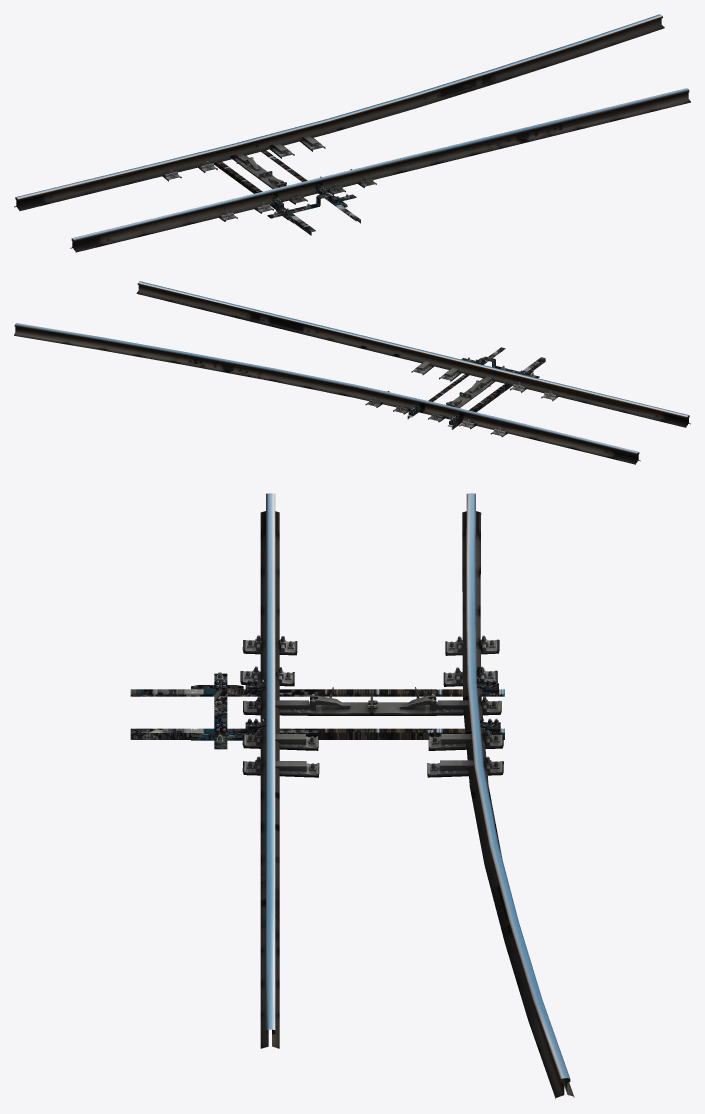
File: sep_hi.fbx
The picture shows the model from 3 angles, top to bottom: view 1: azimuth 30°, elevation 25°; view 2: azimuth 150°, elevation 25°; view 3: azimuth 270°, elevation 25°; orthographic projection. The views are drawn at different scales.
Parts seen in each view (by area): view 1: sep_hi; view 2: sep_hi; view 3: sep_hi.
Part boxes in pixels (x1=…): sep_hi: x1=14, y1=14, x2=690, y2=252; sep_hi: x1=14, y1=281, x2=690, y2=464; sep_hi: x1=130, y1=493, x2=574, y2=1098.
Bounding box in the file's own units: 11.16 × 0.2632 × 3.57.
